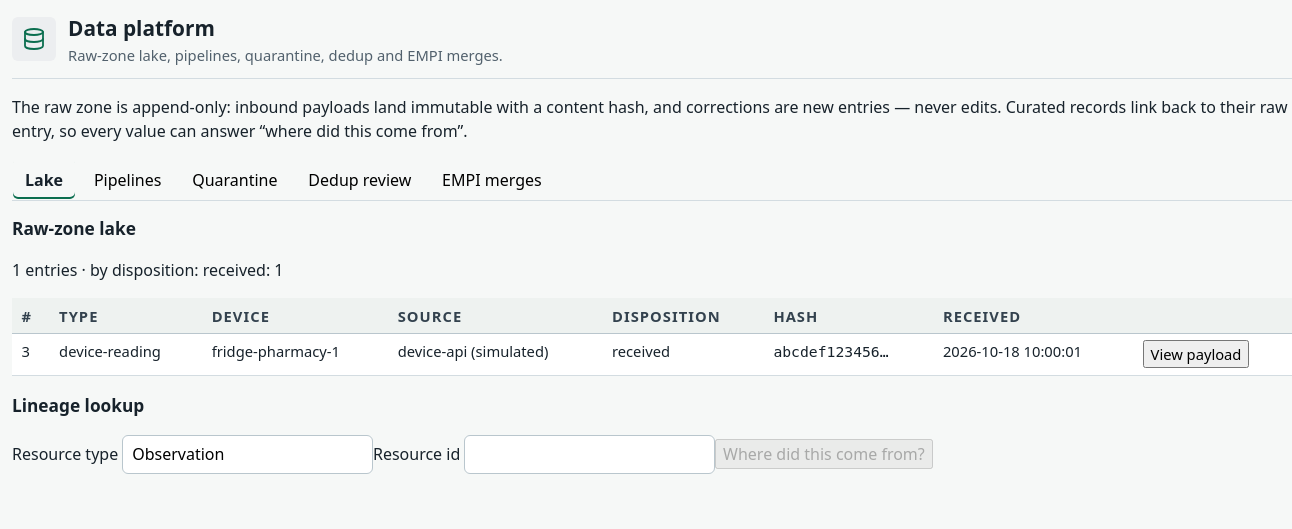
Test: DataPlatformPage › answers the lineage question with device and hash
Expected: the text "device-reading" is shown, x1=50 y1=334 x2=202 y2=375
In the field named "Lineage resource id": (590, 454) x1=464 y1=435 x2=715 y2=474, type "obs-1"
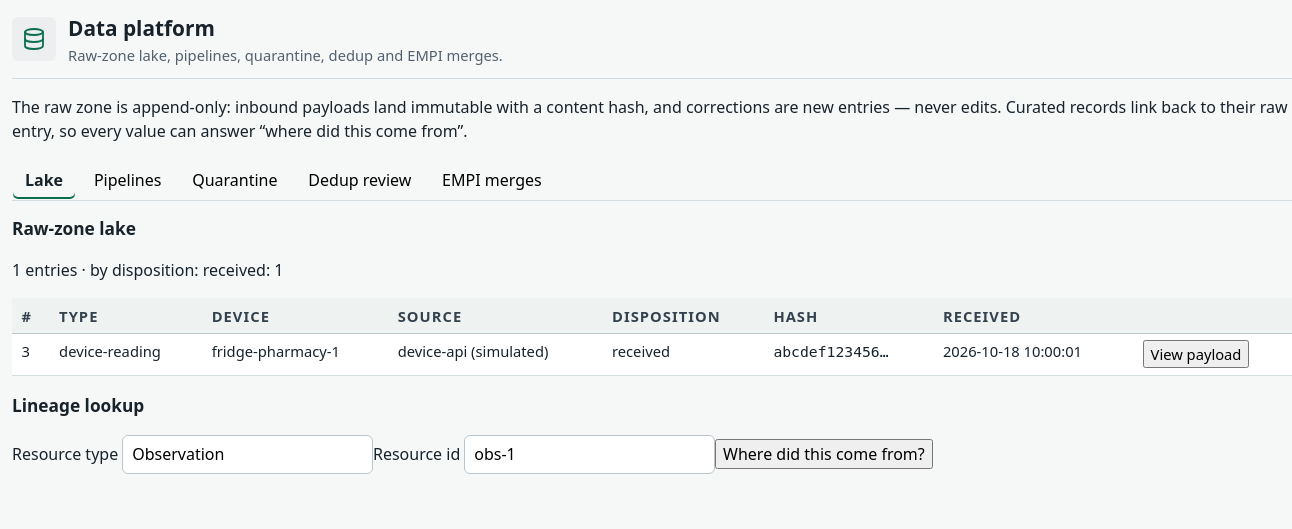
Click the button "Where did this come from?": (824, 454) x1=715 y1=439 x2=933 y2=469
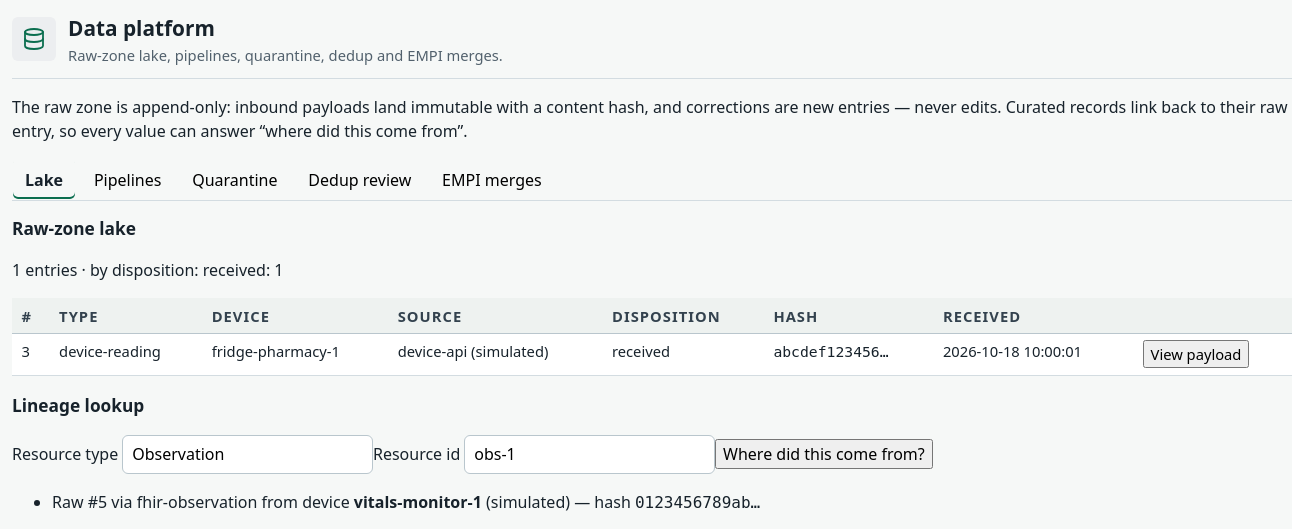
Expected: the text "vitals-monitor-1" is shown, x1=354 y1=490 x2=482 y2=512
